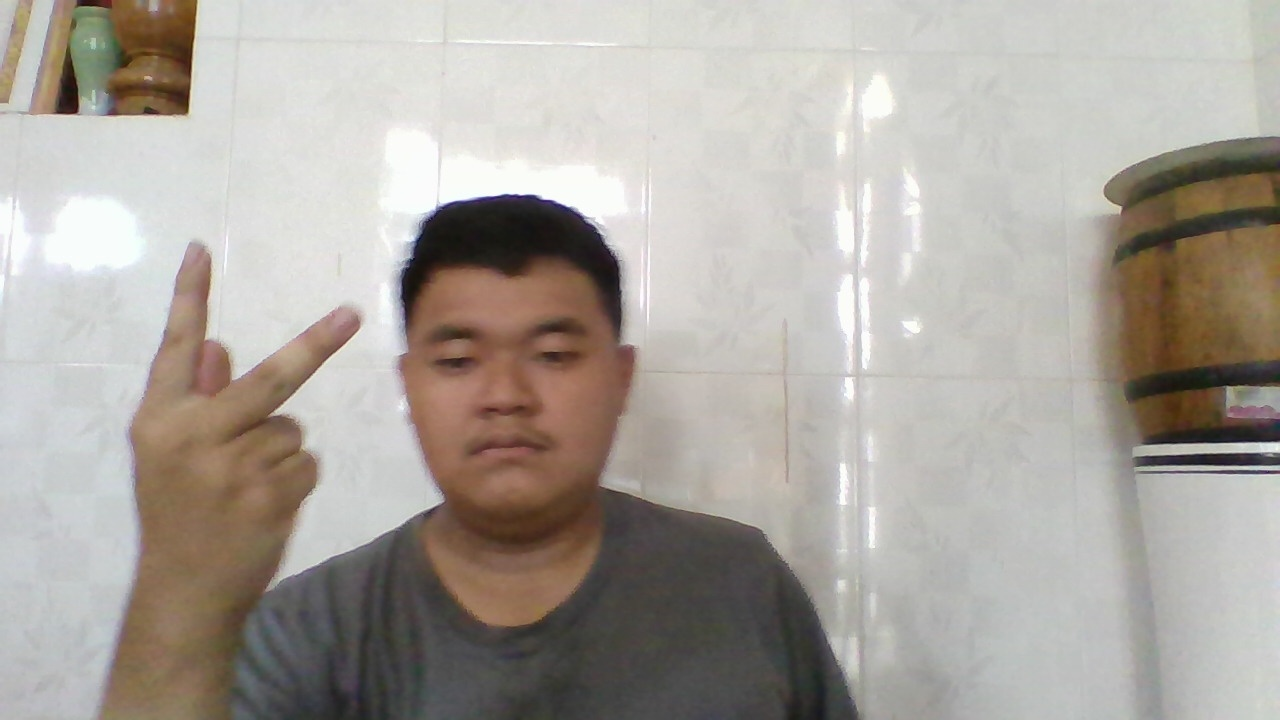K: (131, 237, 367, 611)
